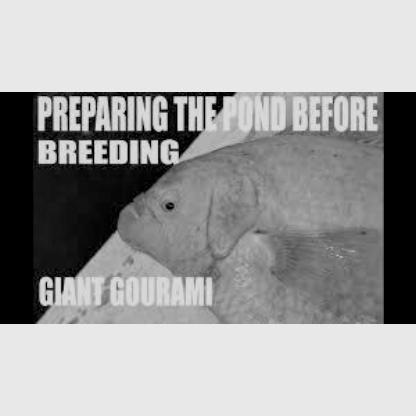gurame: (122, 137, 382, 319)
